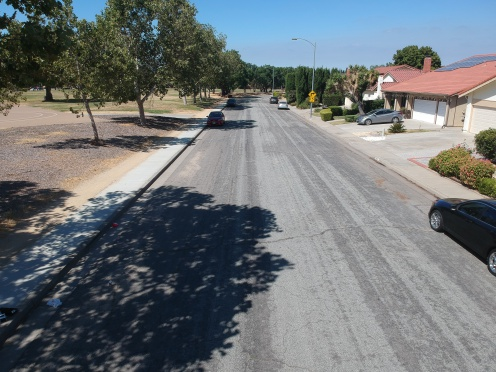plastic bag: (45, 293, 62, 309)
